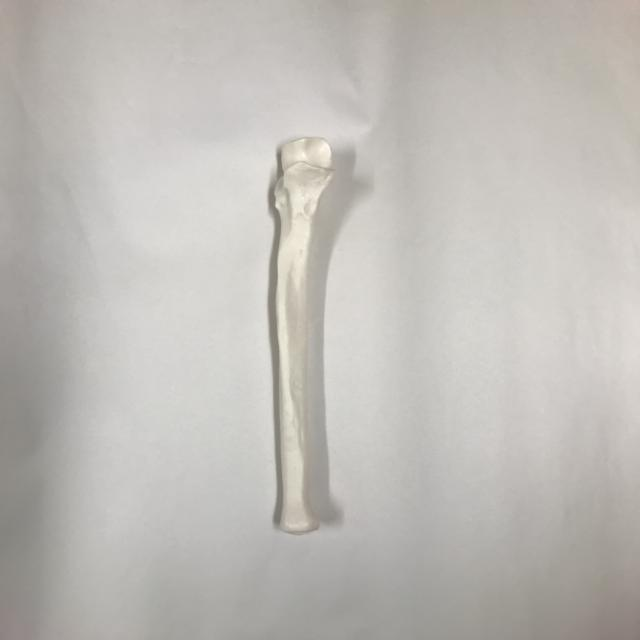bone: (256, 133, 349, 535)
